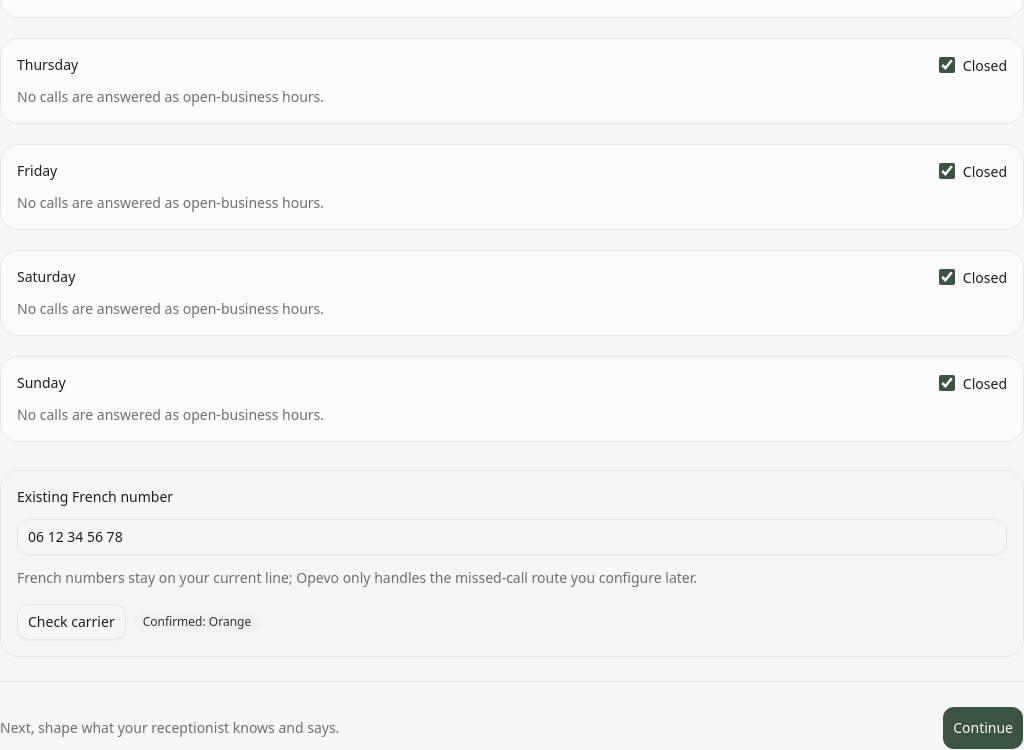
it: profile form › highlights and focuses the first invalid business interval on submit without a prior blur
(page scrolled)
Click the button "Continue": {"x": 983, "y": 728} [942,706,1023,749]
(page scrolled)
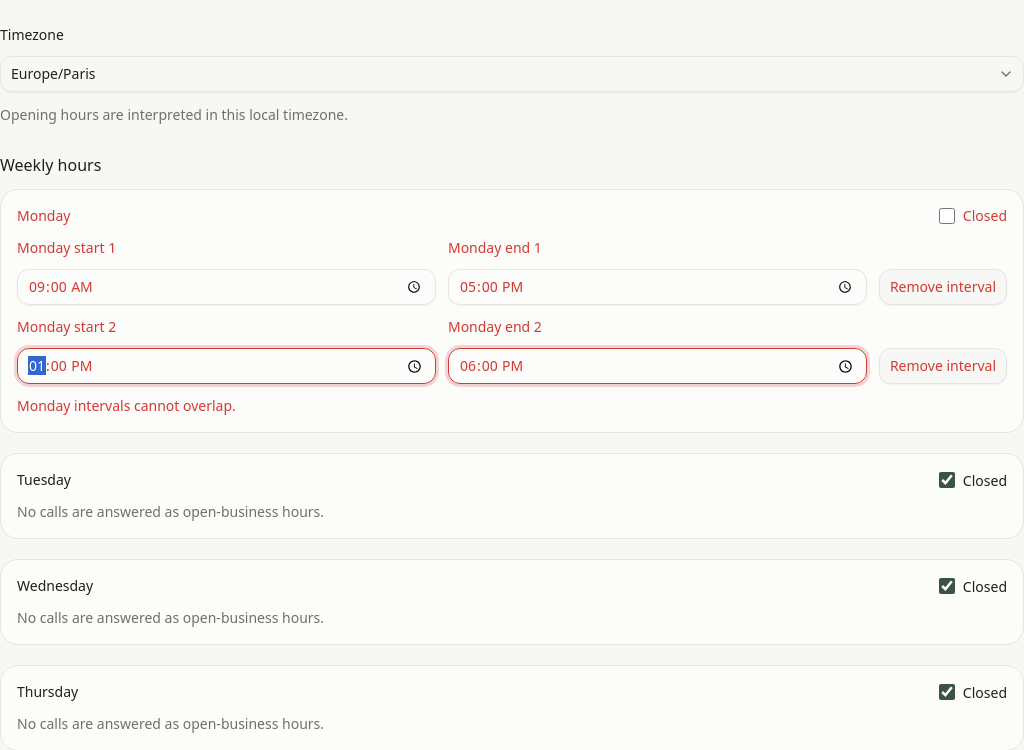
Result: the text "Monday intervals cannot overlap." is shown at [17,396,236,415]
